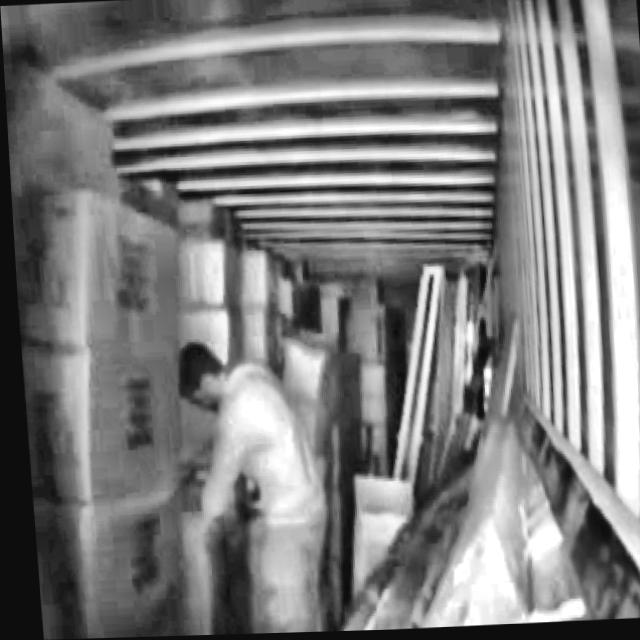burglary: (153, 329, 339, 637)
